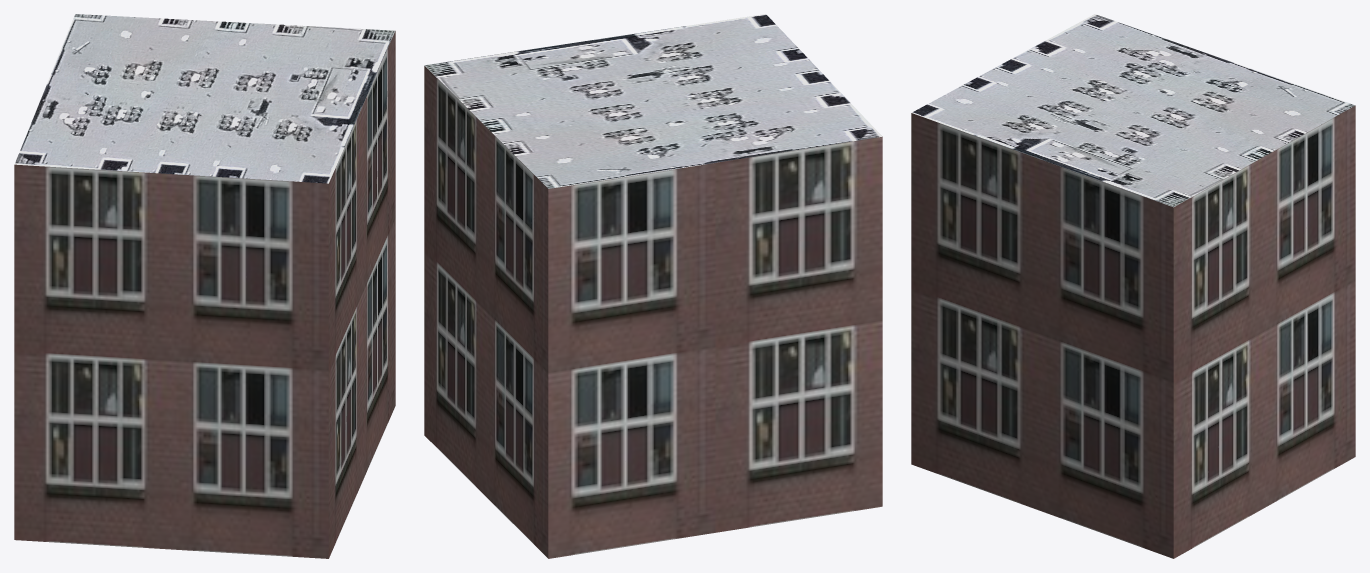
Rendered from ResTex__831.fbx.
3 renders of one model, left to right at view 1: azimuth 30°, elevation 25°; view 2: azimuth 150°, elevation 25°; view 3: azimuth 270°, elevation 25°, orthographic. The views are drawn at different scales.
Parts seen in each view (by area): view 1: CityEngineMaterial_12_m, CityEngineMaterial_m; view 2: CityEngineMaterial_12_m, CityEngineMaterial_m; view 3: CityEngineMaterial_12_m, CityEngineMaterial_m.
Part boxes in pixels (<box>): CityEngineMaterial_12_m: <box>14,31,395,558</box>; CityEngineMaterial_m: <box>14,14,394,183</box>; CityEngineMaterial_12_m: <box>424,66,882,558</box>; CityEngineMaterial_m: <box>424,14,882,188</box>; CityEngineMaterial_12_m: <box>911,105,1355,558</box>; CityEngineMaterial_m: <box>912,14,1354,207</box>.
Bounding box in the file's own units: 7.08 × 6 × 6.87.
2 materials, 2 textured.
